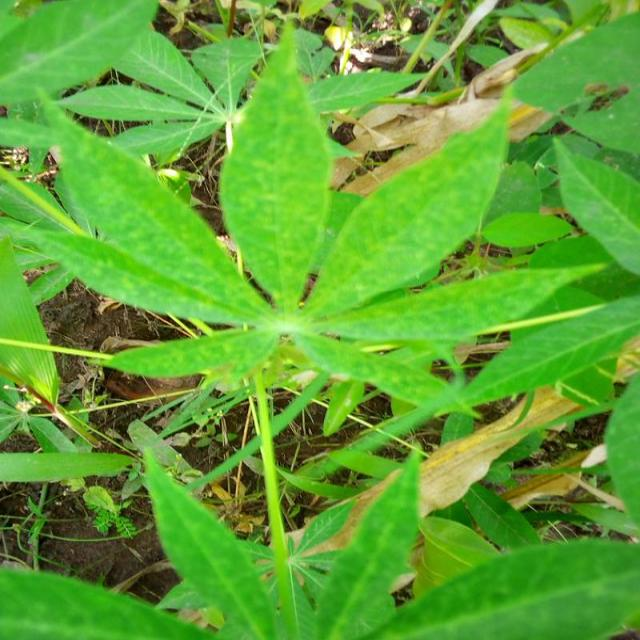cassava leaf: (0, 4, 638, 636), (218, 19, 332, 312)
